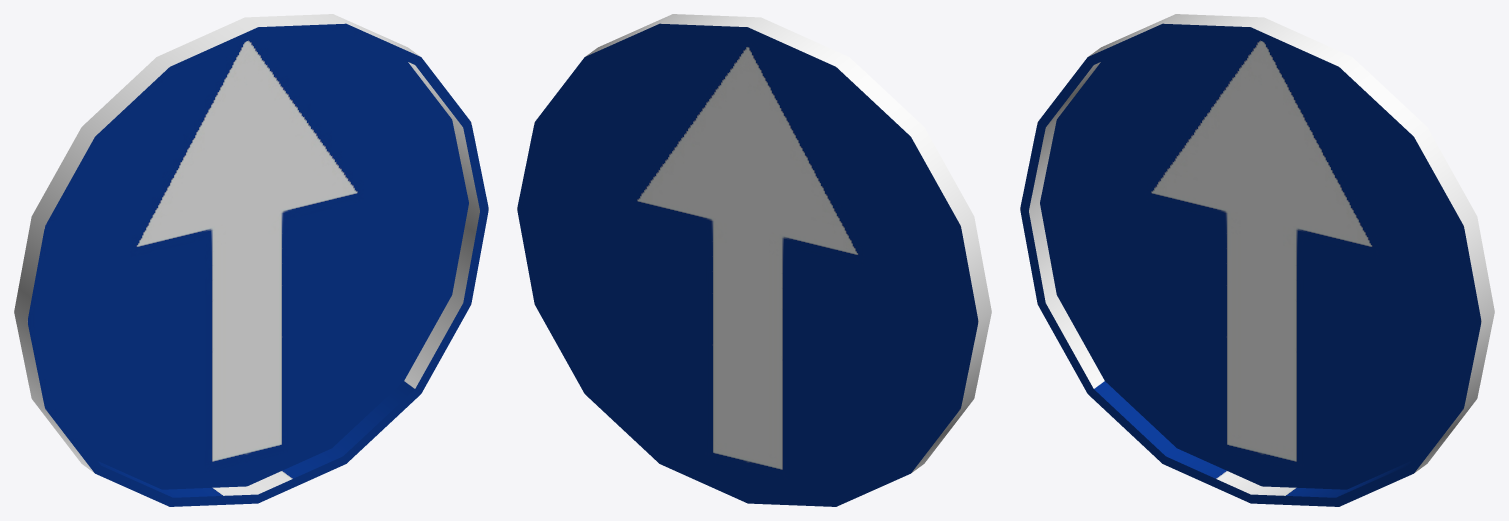
File: prosto.fbx
The picture shows the model from 3 angles, left to right: view 1: azimuth 30°, elevation 25°; view 2: azimuth 150°, elevation 25°; view 3: azimuth 330°, elevation 25°; orthographic projection.
Parts seen in each view (by area): view 1: Prohibition_MaximumHeight_LOD0; view 2: Prohibition_MaximumHeight_LOD0; view 3: Prohibition_MaximumHeight_LOD0.
Boxes of the visible parts, x1,y1,x2,y2 form: Prohibition_MaximumHeight_LOD0: (14, 14, 488, 506); Prohibition_MaximumHeight_LOD0: (517, 14, 991, 506); Prohibition_MaximumHeight_LOD0: (1020, 14, 1494, 506).
Bounding box in the file's own units: 70.96 × 70 × 3.55.
